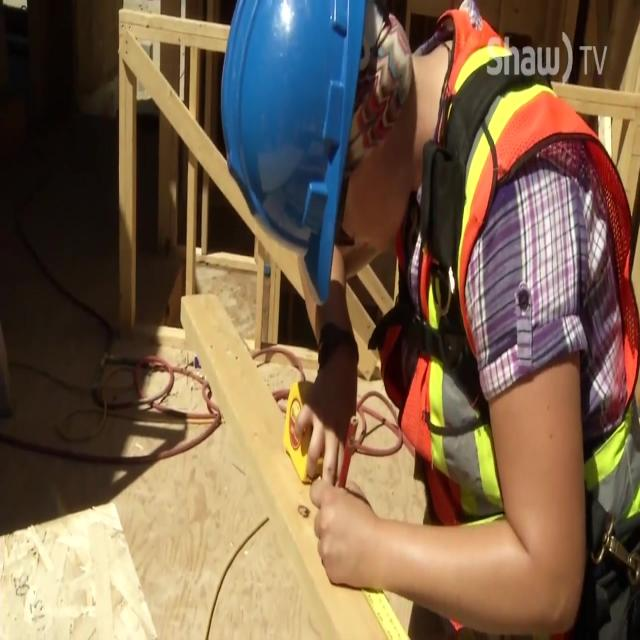Reflective-Jacket: (398, 32, 636, 554)
Safety-Helmet: (214, 0, 392, 272)
